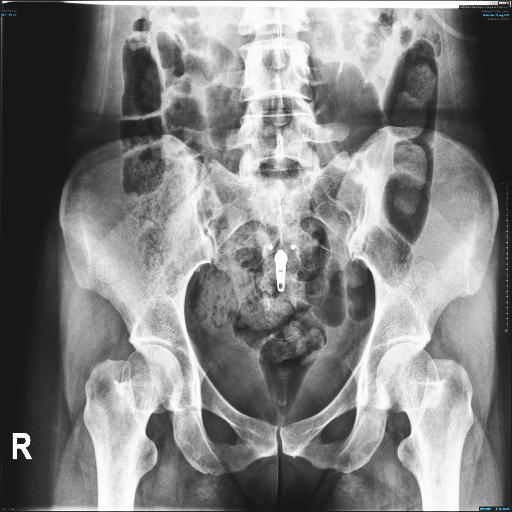normal: (83, 344, 183, 512), (376, 343, 474, 511)
